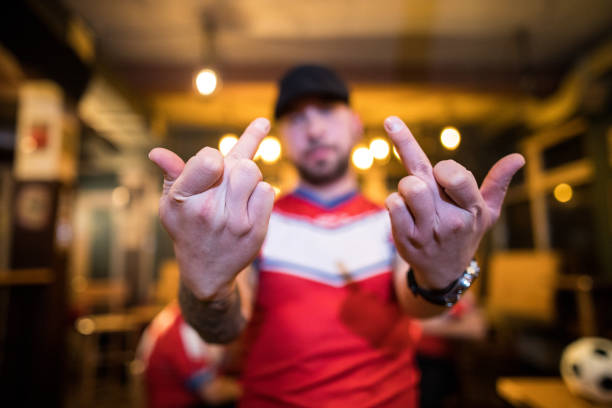insulting_gesture: (381, 115, 526, 284), (146, 116, 276, 291)
